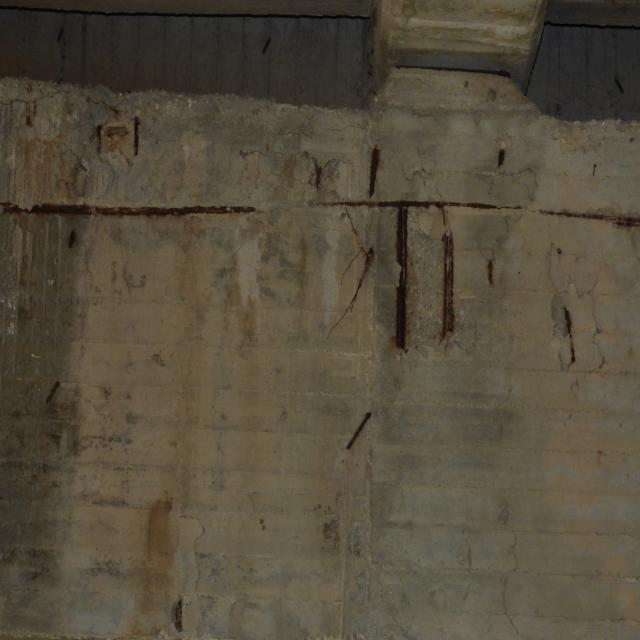corrosion: (301, 138, 640, 370), (0, 79, 282, 255), (313, 387, 387, 550), (133, 486, 204, 640), (40, 372, 66, 412), (256, 30, 274, 59), (55, 23, 68, 44)
